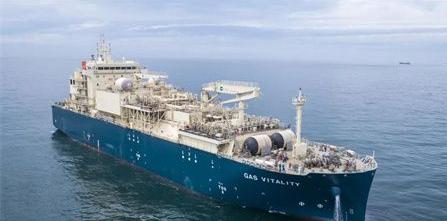Cargoship: (51, 33, 379, 217)
